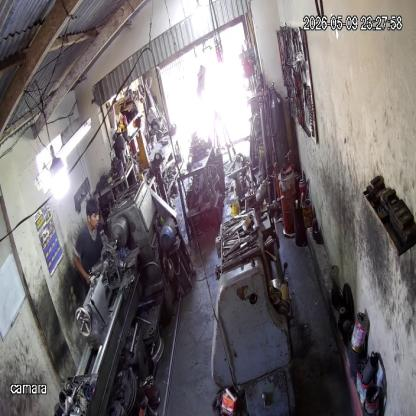sin_lentes: (91, 211, 100, 223)
